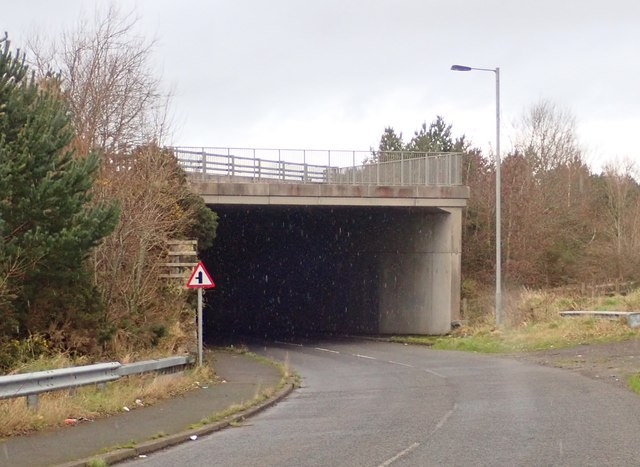bridge: (165, 144, 469, 221)
